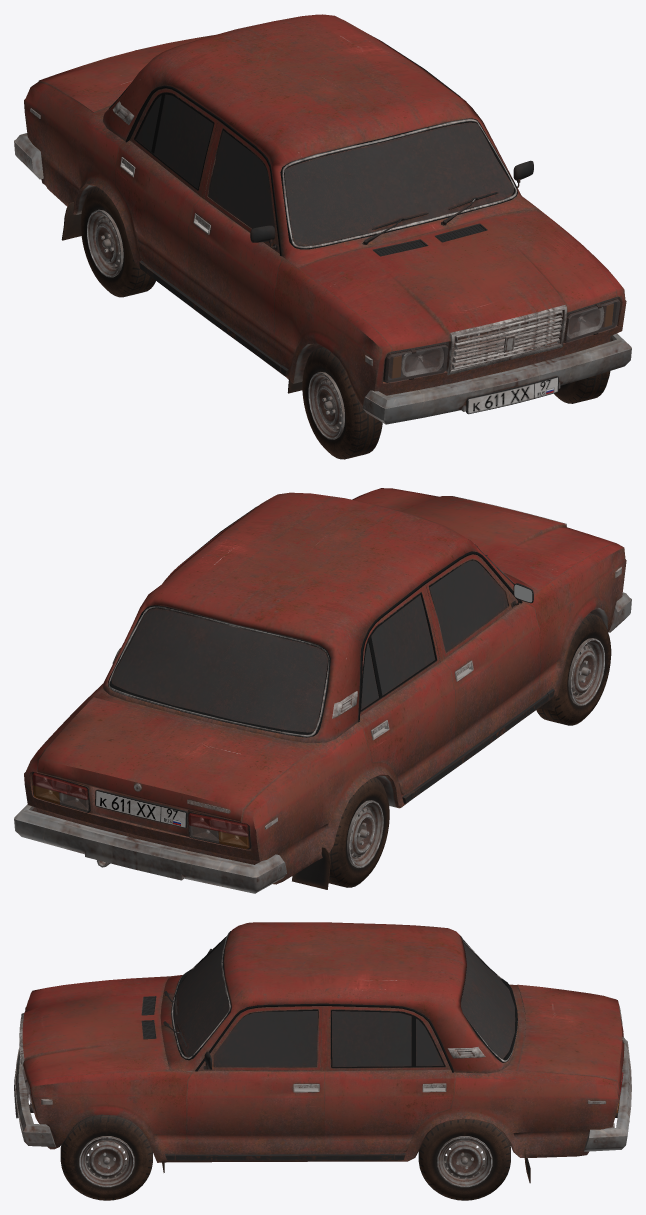
Rendered from vaz_2107.glb.
3 views of the same model, one above another, from view 1: azimuth 30°, elevation 25°; view 2: azimuth 150°, elevation 25°; view 3: azimuth 270°, elevation 25° (orthographic). The views are drawn at different scales.
Visible parts, largest first — view 1: Car; view 2: Car; view 3: Car.
Part boxes in pixels (x1,y1,x2,y2): Car: [14, 14, 631, 459]; Car: [14, 488, 631, 893]; Car: [14, 922, 631, 1200].
Size of the model in its own units: 178 by 148 by 416.
Materials: 6 (6 with a texture image).
